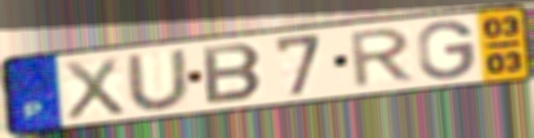7: (272, 32, 324, 100)
B: (200, 41, 267, 106)
G: (415, 18, 478, 82)
R: (349, 25, 419, 91)
U: (122, 47, 194, 113)
X: (61, 54, 129, 123)
